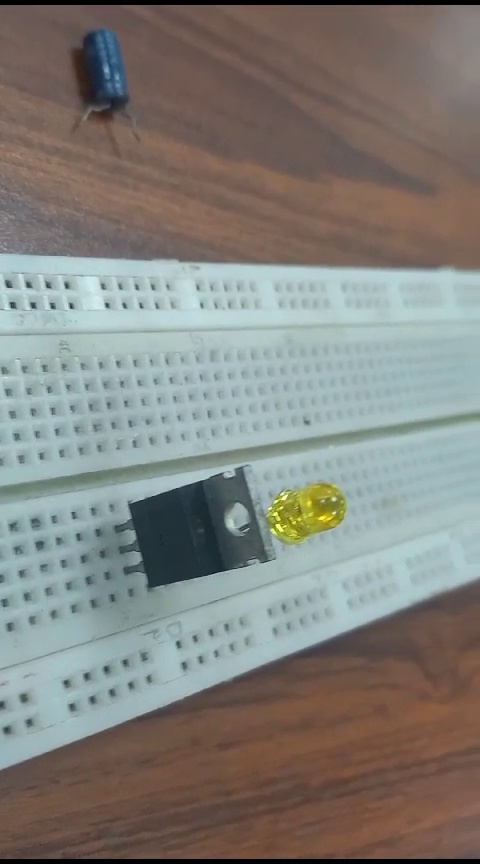LED: (272, 483, 347, 549)
voltage regulator: (116, 464, 270, 584)
